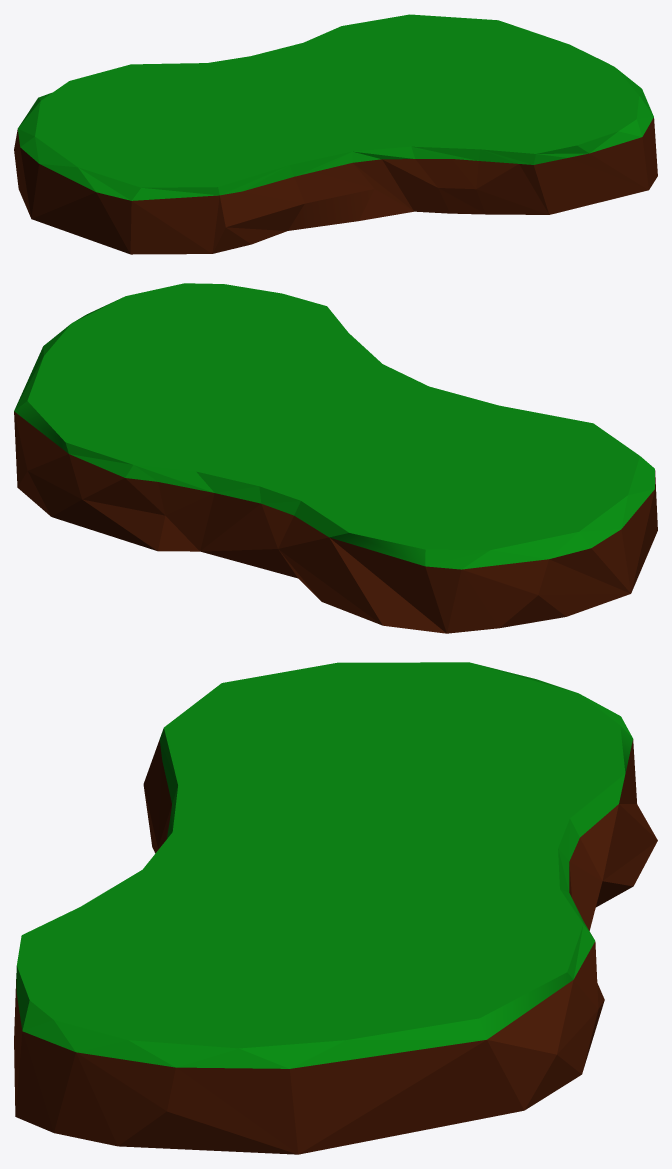
The model's file is ElevatedGround_3.fbx.
3 renders of one model, top to bottom at view 1: azimuth 30°, elevation 25°; view 2: azimuth 150°, elevation 25°; view 3: azimuth 270°, elevation 25°, orthographic. The views are drawn at different scales.
Visible parts, largest first — view 1: ElevatedGround_3; view 2: ElevatedGround_3; view 3: ElevatedGround_3.
Boxes of the visible parts, x1,y1,x2,y2 form: ElevatedGround_3: (14,14,657,254); ElevatedGround_3: (14,283,657,633); ElevatedGround_3: (14,662,657,1154).
Bounding box in the file's own units: 2283 × 249 × 1501.
